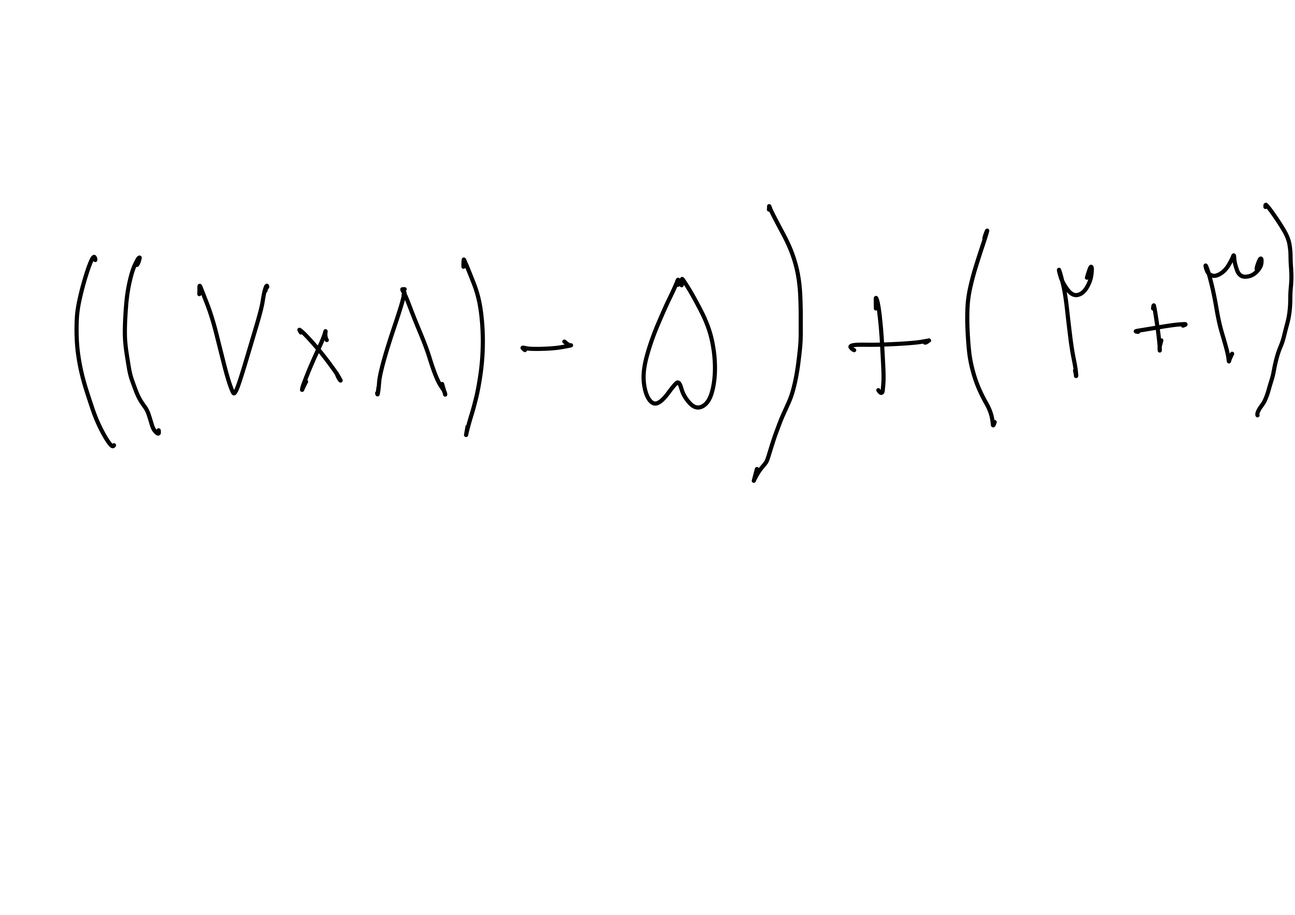character: (750, 203, 810, 486), (640, 277, 720, 413), (964, 227, 1013, 429), (373, 285, 455, 399), (848, 295, 936, 397), (195, 285, 269, 395), (74, 253, 114, 449), (120, 255, 162, 437), (1201, 253, 1265, 363), (1261, 205, 1291, 413), (457, 257, 487, 435), (1053, 265, 1095, 377), (1131, 299, 1187, 357), (297, 329, 345, 393), (519, 341, 571, 355)
